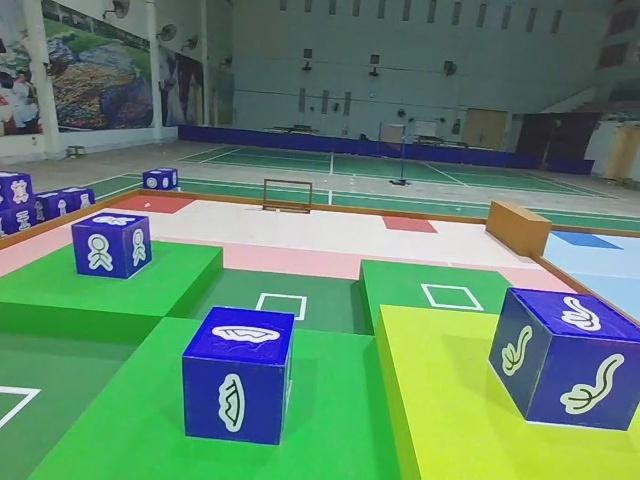R2 Real Blue: (487, 292, 639, 434), (179, 306, 296, 448), (69, 214, 152, 283), (0, 172, 34, 237)
